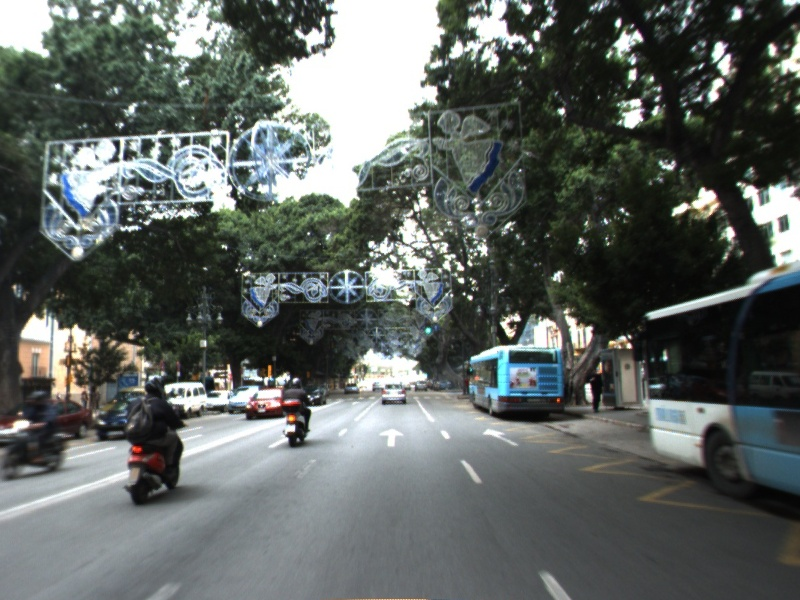STRAIGHT: (480, 426, 522, 448), (377, 427, 406, 448)
